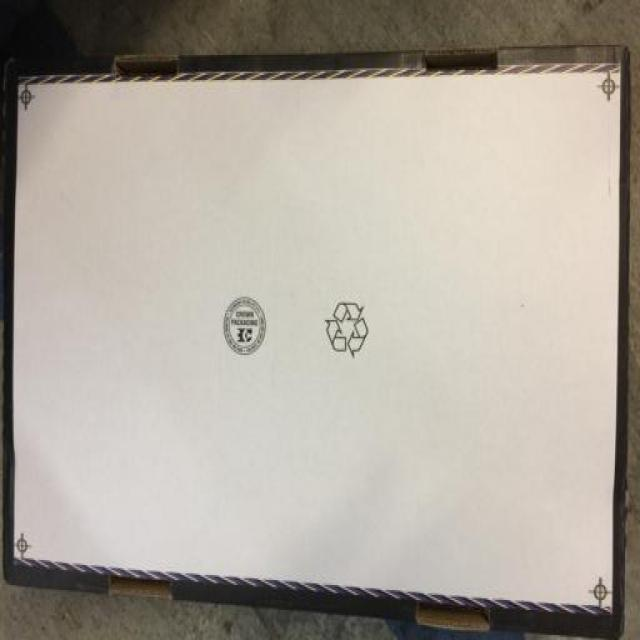cardboard paper: (14, 68, 621, 615)
